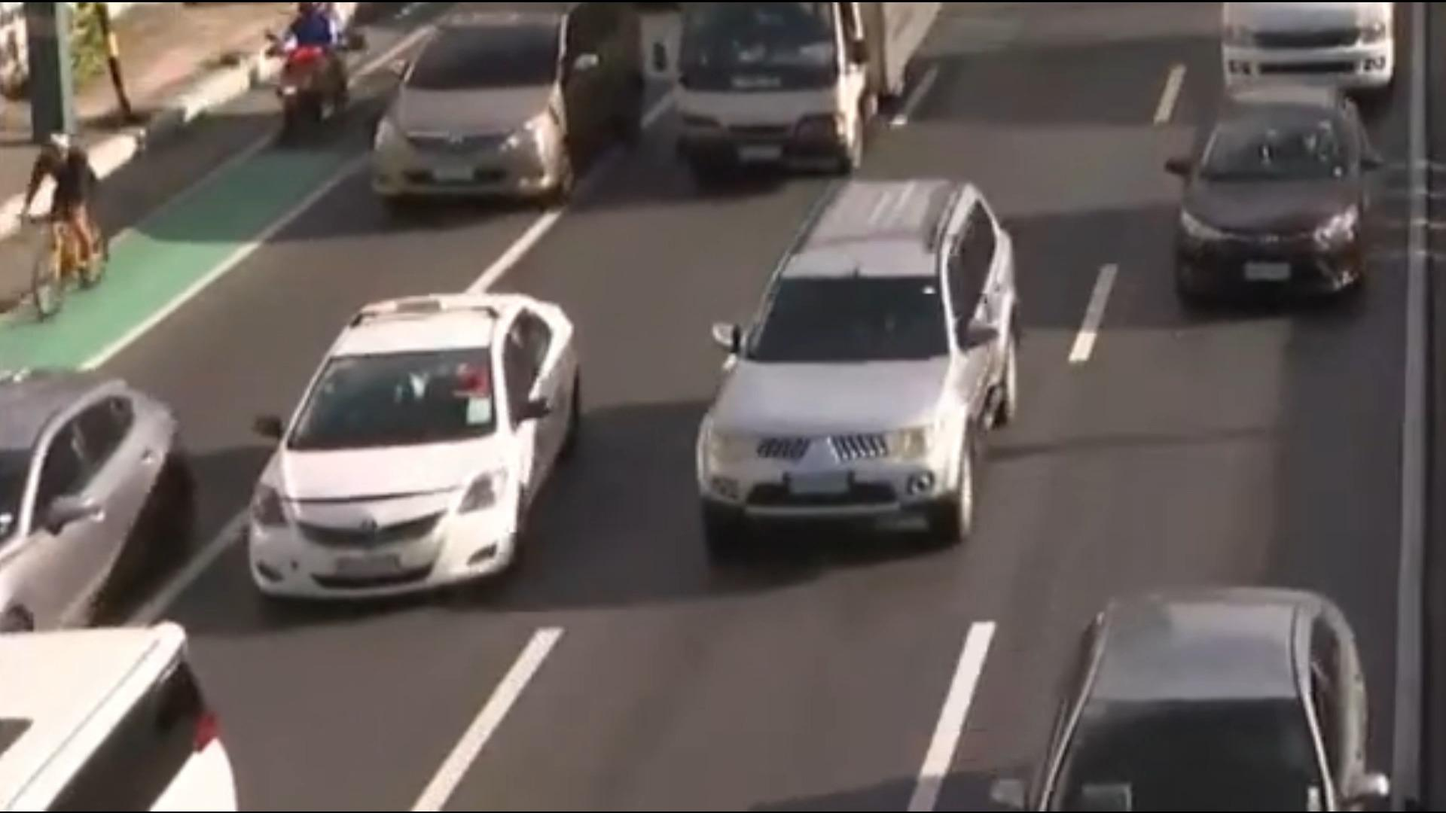Bicycle: (11, 132, 113, 327)
Motorcycle: (254, 0, 373, 152)
SUV: (691, 183, 1013, 527), (375, 9, 648, 199)
Sedan: (243, 292, 586, 604), (992, 576, 1380, 813), (0, 369, 205, 636), (1149, 85, 1373, 311)
Truck: (670, 0, 955, 171)
